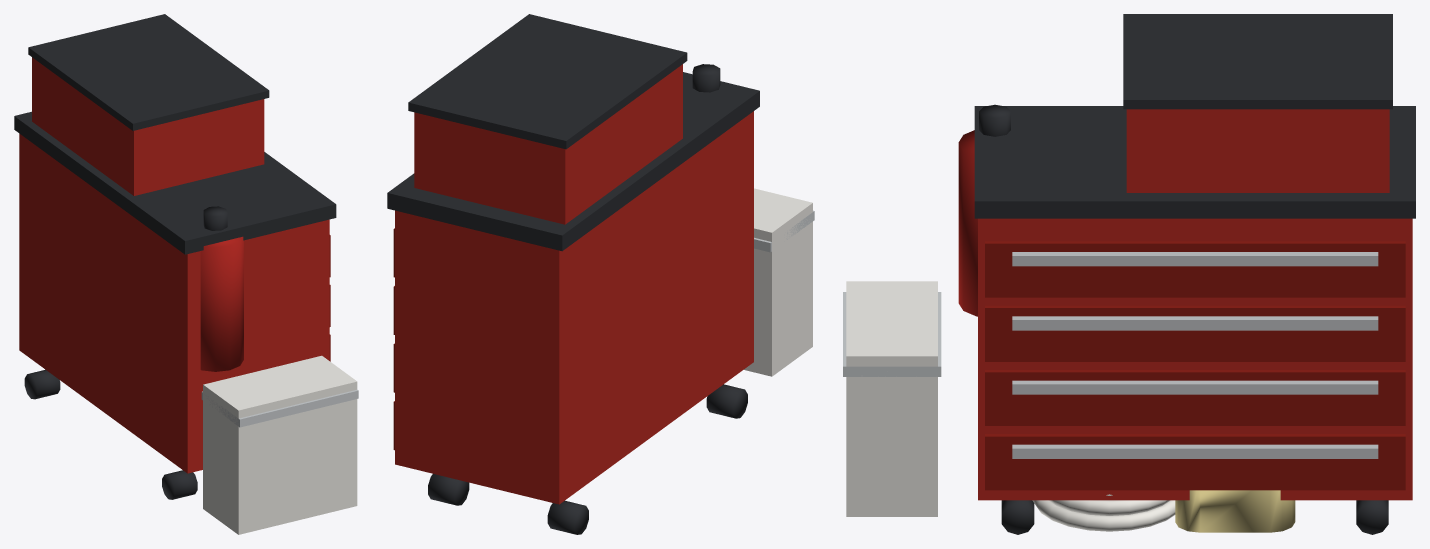
3 renders of one model, left to right at view 1: azimuth 30°, elevation 25°; view 2: azimuth 150°, elevation 25°; view 3: azimuth 270°, elevation 25°, orthographic. The views are drawn at different scales.
Parts seen in each view (by area): view 1: root; view 2: root; view 3: root.
Boxes of the visible parts, x1=… form: root: x1=14, y1=14, x2=358, y2=534; root: x1=387, y1=14, x2=814, y2=534; root: x1=843, y1=14, x2=1415, y2=534.
Bounding box in the file's own units: 0.6187 × 1.31 × 1.53.
